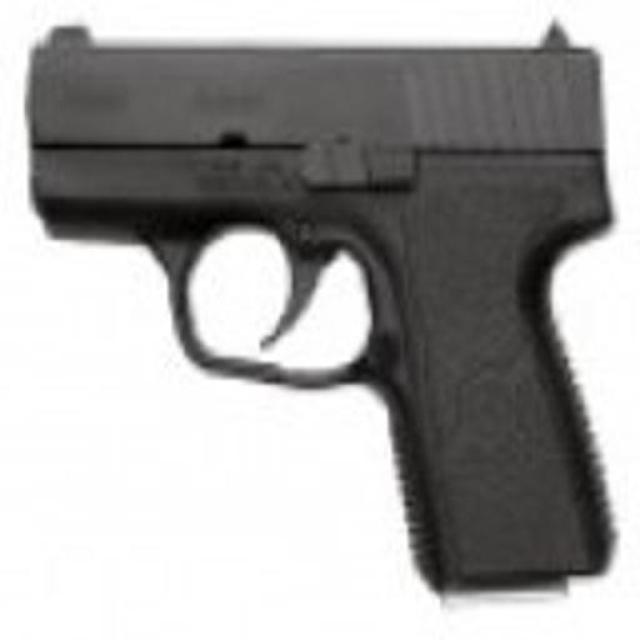pistol: (27, 21, 615, 602)
